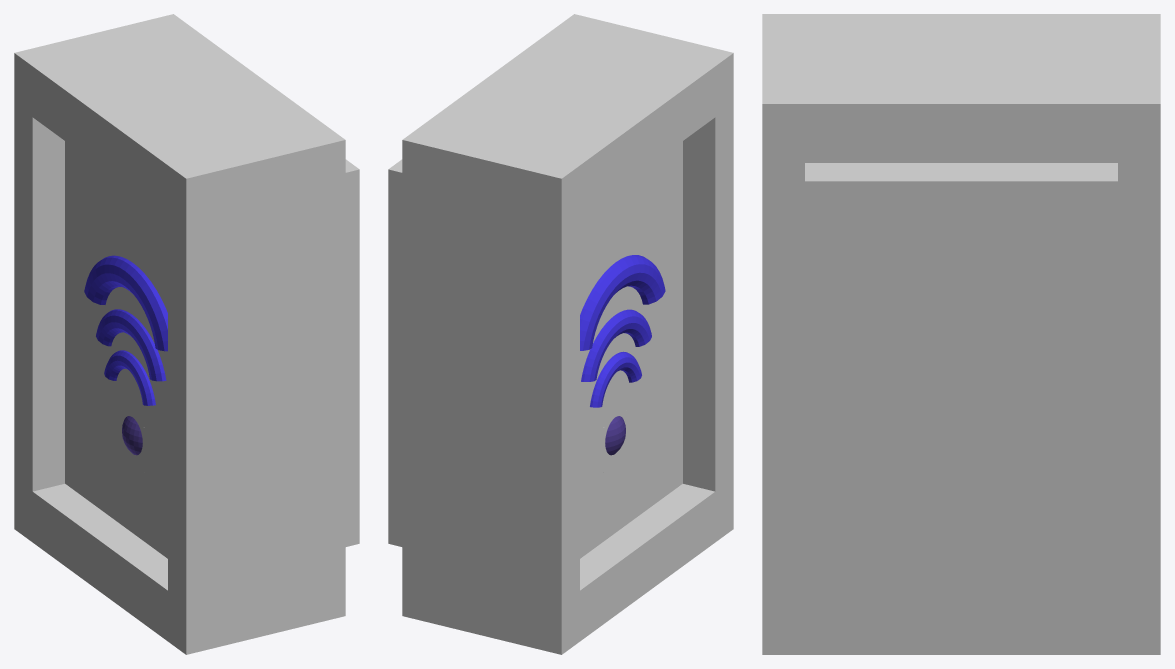
Rendered from Wifi Box.glb.
3 renders of one model, left to right at view 1: azimuth 30°, elevation 25°; view 2: azimuth 150°, elevation 25°; view 3: azimuth 270°, elevation 25°, orthographic. The views are drawn at different scales.
Parts seen in each view (by area): view 1: Cube, Cube.003, Cube.002, Cube.001, Sphere; view 2: Cube, Cube.003, Cube.002, Cube.001, Sphere; view 3: Cube.
Part boxes in pixels (x1,y1,x2,y2): Cube: [14, 14, 359, 654]; Cube.003: [84, 255, 167, 351]; Cube.002: [96, 309, 166, 381]; Cube.001: [104, 350, 155, 405]; Sphere: [122, 416, 142, 455]; Cube: [388, 14, 733, 654]; Cube.003: [580, 255, 665, 350]; Cube.002: [581, 309, 651, 381]; Cube.001: [590, 351, 641, 407]; Sphere: [605, 416, 625, 455]; Cube: [762, 14, 1160, 654].
Size of the model in its own units: 1.29 by 3.05 by 2.
